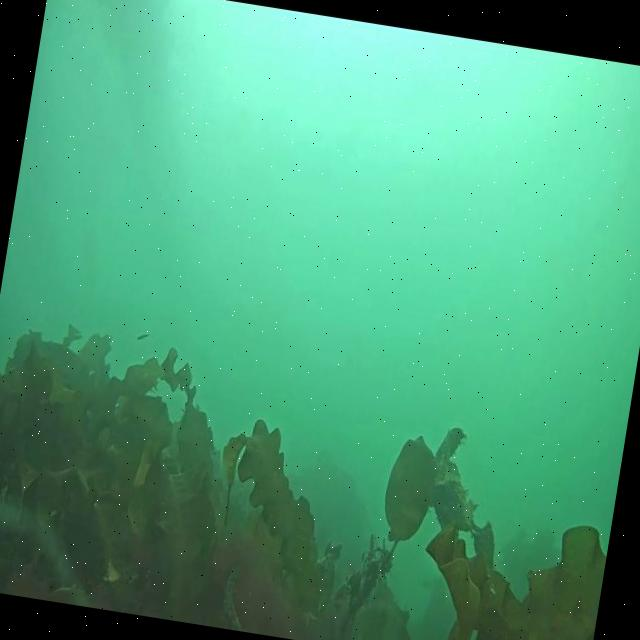fish: (136, 332, 148, 344)
